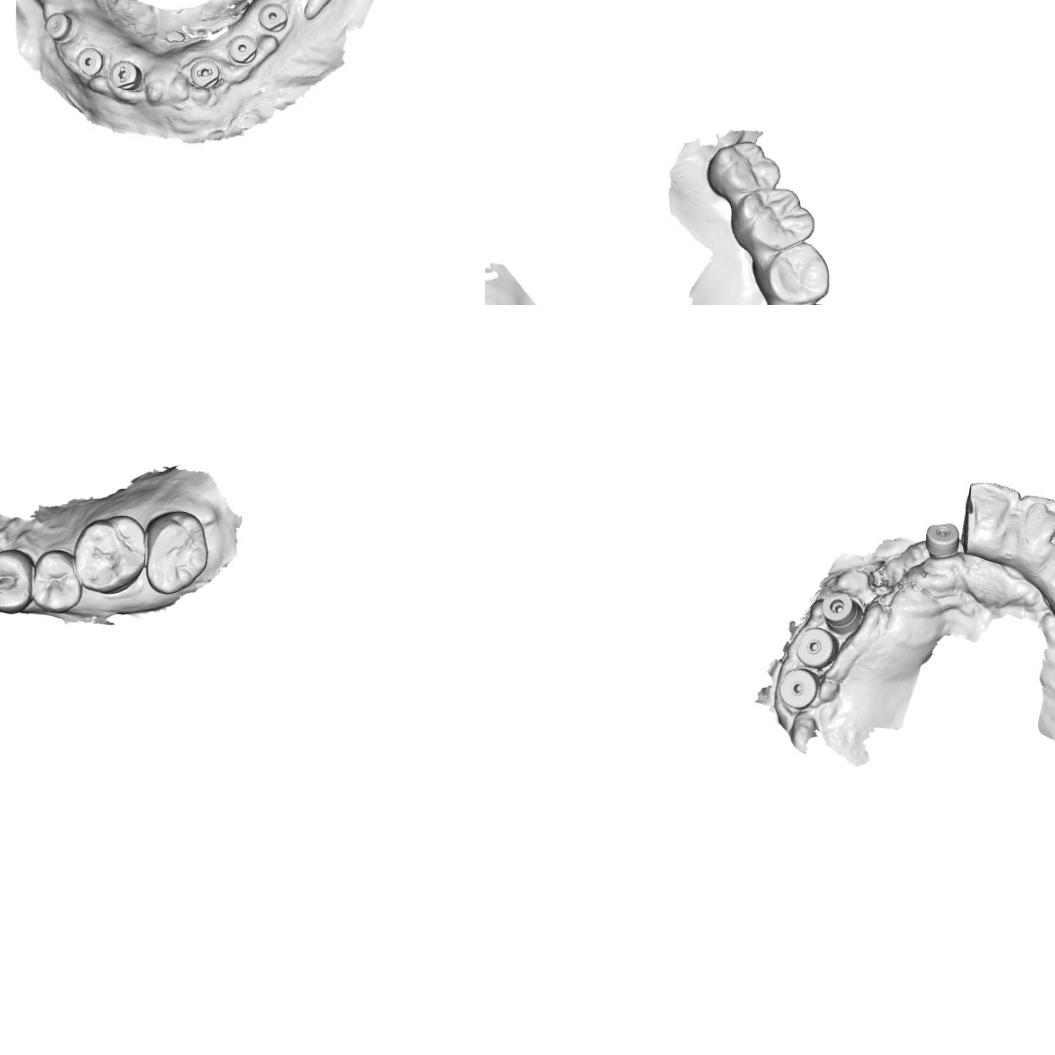implant: (793, 624, 839, 670), (819, 591, 865, 634), (920, 519, 967, 561), (776, 668, 820, 712), (256, 1, 290, 33), (42, 11, 74, 43), (226, 34, 258, 65), (74, 46, 104, 78)
implant_minus: (188, 57, 224, 91), (107, 60, 143, 92)
incisor: (962, 479, 1022, 543), (1012, 493, 1055, 575), (1035, 518, 1055, 593)
molar: (70, 511, 150, 597), (143, 508, 213, 596), (735, 187, 816, 252), (706, 140, 782, 198)
premolar: (764, 240, 830, 305), (27, 547, 86, 616), (0, 546, 35, 617)
